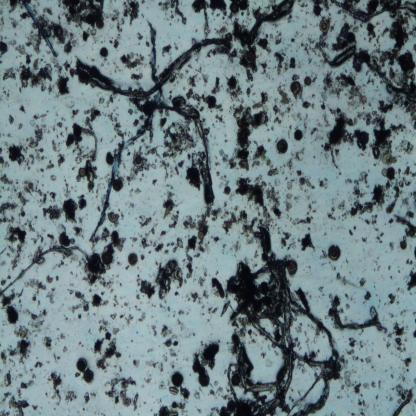Background material: (228, 110, 269, 173), (321, 105, 357, 168), (235, 176, 284, 222), (370, 114, 400, 165), (160, 118, 197, 159), (59, 2, 108, 30), (349, 183, 385, 217), (385, 180, 416, 217), (18, 63, 54, 91), (334, 76, 366, 105), (154, 260, 177, 300), (240, 223, 274, 248), (160, 0, 190, 25), (190, 1, 212, 34), (238, 46, 262, 74), (391, 388, 416, 414), (292, 204, 319, 228), (300, 35, 328, 58), (393, 213, 416, 240), (106, 112, 125, 143), (64, 124, 89, 146), (9, 340, 34, 362), (86, 124, 100, 162), (86, 272, 115, 290), (202, 340, 220, 369), (50, 370, 63, 410), (121, 1, 141, 27), (108, 376, 138, 393), (226, 76, 244, 104), (363, 22, 385, 44), (121, 50, 146, 69), (186, 235, 196, 282), (9, 142, 27, 168), (130, 150, 148, 176), (107, 10, 126, 34), (344, 335, 360, 363), (160, 190, 176, 218), (391, 321, 405, 352), (72, 291, 90, 315), (158, 160, 182, 178), (27, 124, 44, 149), (27, 309, 47, 330), (63, 198, 79, 224), (25, 31, 43, 54), (23, 278, 48, 294), (9, 395, 30, 414), (102, 342, 124, 360), (188, 163, 202, 191), (320, 76, 336, 99), (209, 1, 230, 18), (6, 228, 28, 244), (330, 268, 352, 284), (10, 245, 24, 270), (198, 209, 212, 234), (376, 98, 395, 116), (308, 125, 326, 144), (42, 206, 66, 220), (212, 104, 228, 125), (191, 350, 205, 374), (210, 277, 226, 298), (300, 233, 317, 252), (111, 231, 126, 252), (342, 173, 366, 186), (141, 279, 155, 301), (55, 75, 71, 94), (224, 212, 238, 233), (396, 140, 414, 156), (395, 382, 409, 402), (12, 325, 32, 339), (157, 404, 180, 416), (278, 87, 291, 108), (0, 172, 17, 188), (119, 312, 136, 328), (341, 370, 356, 388), (279, 231, 293, 250), (274, 52, 285, 76), (255, 92, 271, 108), (22, 180, 39, 195), (298, 177, 316, 191), (87, 162, 96, 190), (0, 68, 18, 82), (140, 231, 152, 252), (0, 200, 19, 213), (272, 27, 285, 46), (92, 294, 109, 308), (15, 191, 29, 208), (92, 337, 105, 355), (406, 269, 416, 292), (312, 0, 324, 19), (128, 71, 147, 83), (211, 206, 224, 223), (203, 384, 225, 394), (284, 192, 294, 214), (374, 228, 386, 246), (161, 41, 173, 59), (402, 354, 414, 372), (107, 390, 121, 405), (2, 372, 15, 388), (184, 214, 197, 230), (37, 190, 50, 206), (338, 199, 347, 222), (213, 76, 223, 96), (174, 236, 184, 256), (77, 193, 88, 211), (258, 38, 272, 52), (403, 164, 416, 179), (139, 213, 152, 228), (294, 146, 306, 162), (0, 144, 8, 167), (272, 103, 285, 117), (72, 225, 85, 239), (89, 107, 101, 122), (176, 318, 188, 333), (186, 73, 198, 88), (0, 86, 10, 104), (219, 148, 230, 164), (97, 358, 108, 374), (187, 91, 203, 102), (383, 331, 392, 350), (386, 166, 396, 183), (15, 43, 27, 57), (319, 177, 331, 191), (66, 392, 78, 406), (181, 388, 193, 402), (98, 318, 110, 332), (160, 324, 172, 338), (327, 207, 339, 221), (52, 59, 63, 74), (320, 248, 330, 264), (50, 260, 66, 270), (302, 100, 318, 110), (35, 148, 46, 162), (46, 291, 56, 306), (5, 112, 15, 127), (63, 43, 75, 55), (55, 156, 67, 168), (83, 392, 92, 408), (20, 380, 36, 389), (283, 160, 295, 172), (145, 358, 157, 370), (9, 0, 20, 13), (43, 337, 54, 350), (388, 290, 398, 304), (26, 220, 36, 234), (100, 226, 110, 240), (101, 228, 111, 242), (198, 276, 208, 290), (0, 216, 17, 224), (0, 348, 8, 365), (260, 60, 268, 77), (192, 294, 204, 305), (404, 256, 415, 268), (17, 102, 28, 114), (266, 168, 279, 178), (316, 283, 326, 296), (198, 244, 211, 254), (10, 16, 20, 29), (50, 141, 60, 154), (358, 396, 367, 410), (358, 275, 367, 289), (172, 210, 179, 228), (289, 56, 298, 70), (206, 306, 220, 315), (354, 382, 363, 396), (29, 115, 40, 126), (168, 348, 179, 359), (34, 360, 44, 372), (104, 331, 114, 343), (36, 233, 46, 245), (57, 329, 67, 341), (364, 353, 372, 368), (138, 309, 148, 321), (201, 73, 211, 85), (373, 256, 380, 273), (2, 296, 15, 305), (49, 189, 58, 202), (82, 29, 90, 43), (157, 360, 165, 374), (63, 309, 71, 323), (273, 116, 284, 126), (112, 298, 122, 309), (1, 390, 10, 402), (298, 1, 310, 10), (132, 357, 141, 369), (72, 106, 80, 119), (32, 401, 40, 414), (245, 86, 253, 99), (20, 10, 30, 20), (52, 354, 62, 364), (245, 70, 255, 80), (154, 242, 164, 252), (132, 119, 141, 130), (109, 311, 118, 322), (68, 254, 79, 263), (46, 233, 57, 242), (158, 381, 167, 392), (45, 160, 54, 171), (29, 152, 36, 166), (152, 324, 159, 337), (135, 33, 144, 43), (265, 360, 275, 369), (89, 388, 98, 398), (22, 366, 30, 377), (63, 61, 71, 72), (110, 326, 121, 334), (56, 119, 63, 131), (129, 199, 136, 211), (287, 179, 294, 191), (177, 309, 186, 318), (113, 39, 121, 49), (49, 174, 59, 182), (20, 210, 29, 218), (39, 111, 48, 119), (45, 276, 54, 284), (214, 235, 222, 244), (79, 340, 87, 349), (397, 309, 406, 317), (193, 390, 201, 399), (232, 50, 238, 62), (164, 339, 172, 348), (388, 240, 395, 250), (377, 379, 383, 390), (32, 238, 38, 249), (296, 166, 302, 177), (144, 376, 152, 384), (371, 380, 377, 390), (361, 235, 367, 245), (146, 346, 154, 353), (172, 340, 180, 347), (123, 300, 131, 307), (1, 278, 7, 287), (349, 409, 358, 415), (54, 276, 61, 283), (62, 347, 69, 354), (90, 30, 98, 36), (363, 386, 371, 392), (385, 263, 391, 271), (162, 354, 168, 362), (388, 272, 394, 280), (412, 327, 416, 339), (145, 41, 151, 49), (153, 175, 158, 184), (127, 107, 132, 116), (359, 409, 366, 415), (389, 373, 395, 380), (349, 228, 354, 236), (388, 310, 393, 318), (413, 311, 416, 322), (140, 254, 144, 262), (378, 353, 381, 359), (398, 268, 401, 273)
Cellulose filter fibre: (222, 248, 342, 413), (62, 35, 232, 101), (147, 99, 217, 207), (329, 46, 414, 99), (0, 246, 87, 294), (234, 0, 298, 46), (328, 1, 416, 28), (328, 291, 382, 334)
Cotton: (88, 20, 160, 240), (21, 1, 59, 58)
Diatom: (398, 52, 414, 72), (88, 252, 101, 274), (288, 81, 303, 97), (57, 232, 73, 247), (170, 370, 184, 387), (219, 298, 232, 315), (7, 306, 18, 326), (287, 258, 299, 276), (329, 246, 342, 262), (231, 370, 241, 389), (174, 263, 183, 284), (101, 250, 114, 264), (221, 183, 234, 197), (277, 140, 289, 155), (386, 166, 397, 181), (359, 131, 370, 146), (109, 209, 120, 224), (198, 374, 211, 386), (229, 2, 240, 16), (122, 394, 133, 408), (206, 94, 217, 108), (84, 368, 94, 383), (53, 25, 63, 39), (76, 358, 86, 372), (319, 20, 330, 32), (399, 239, 409, 252), (106, 150, 114, 166), (294, 130, 304, 142), (129, 254, 139, 266), (114, 179, 123, 192), (77, 168, 87, 179), (392, 73, 402, 84), (0, 42, 9, 54), (196, 230, 204, 242), (101, 46, 109, 58), (169, 387, 179, 396), (239, 2, 250, 10), (304, 76, 311, 86)
